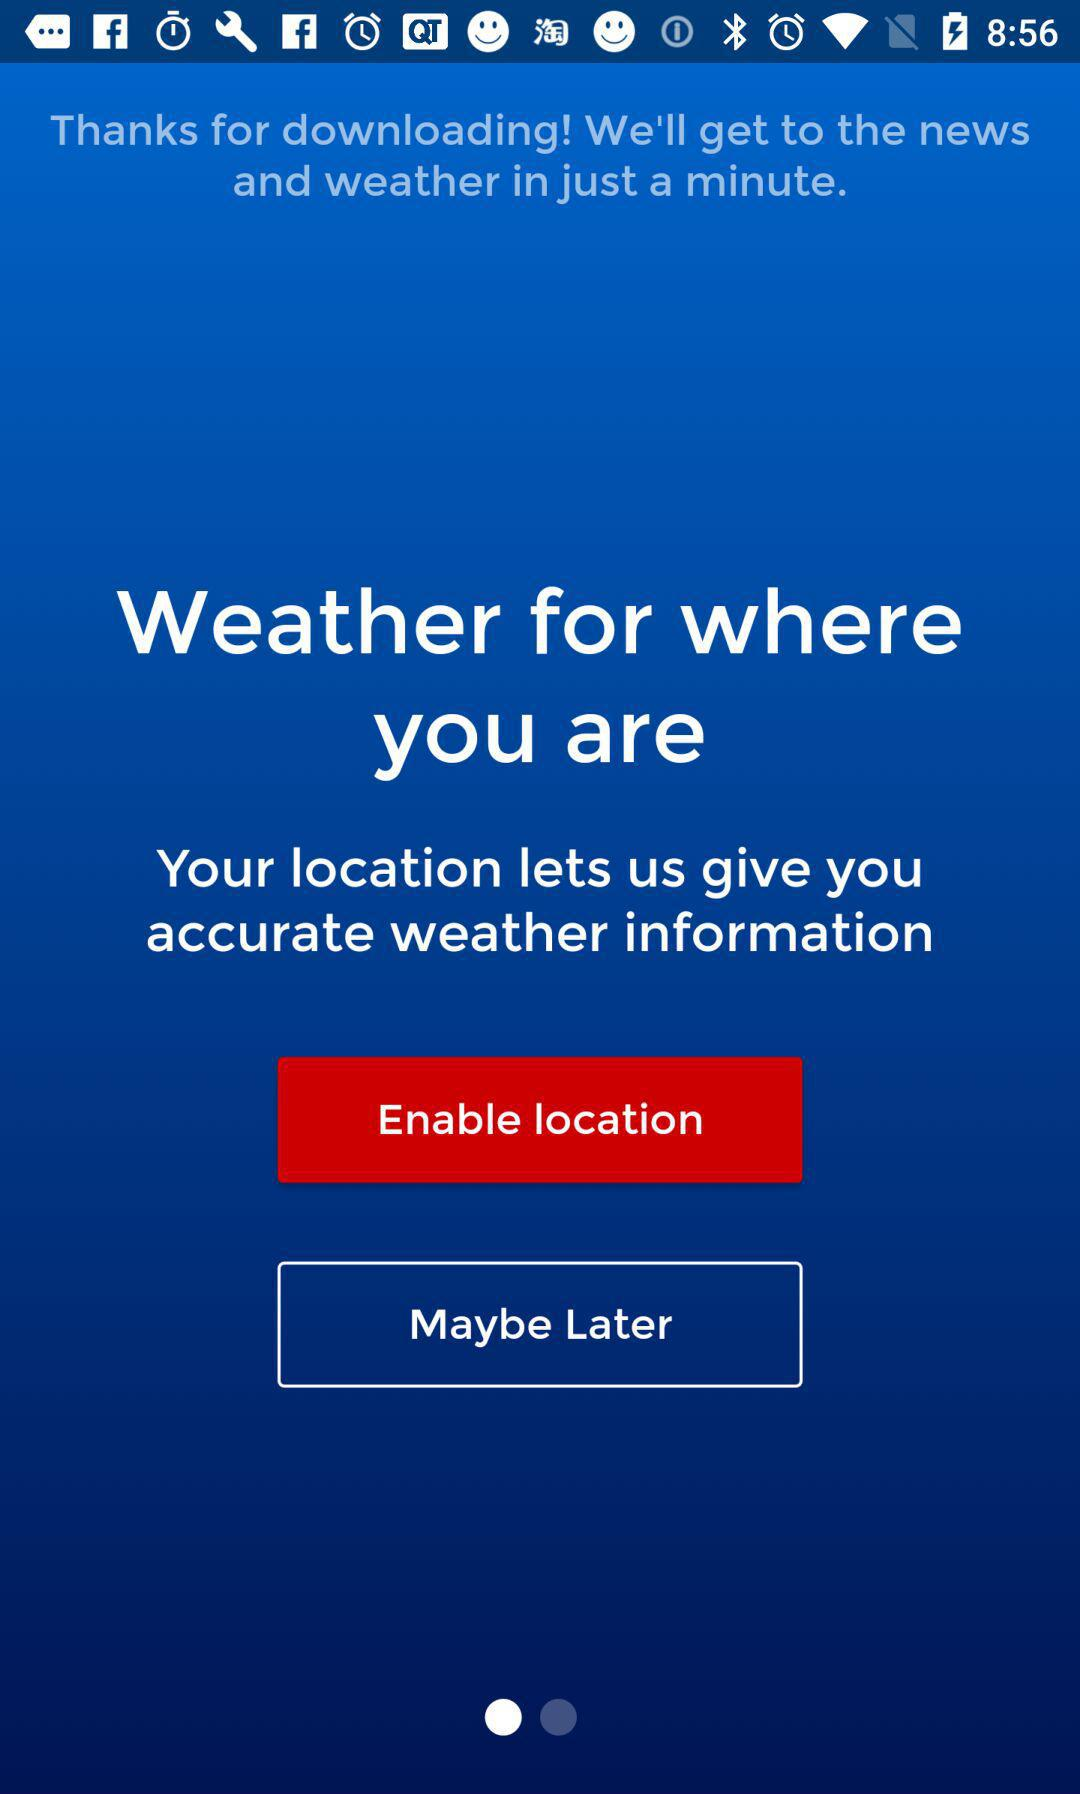PageIndicator: (484, 1697, 579, 1738)
Text: (117, 586, 962, 784), (51, 113, 1030, 206), (147, 846, 933, 953)
TextButton: (277, 1261, 805, 1389), (278, 1056, 803, 1184)
UpperTaskBar: (1, 1, 1080, 64)
